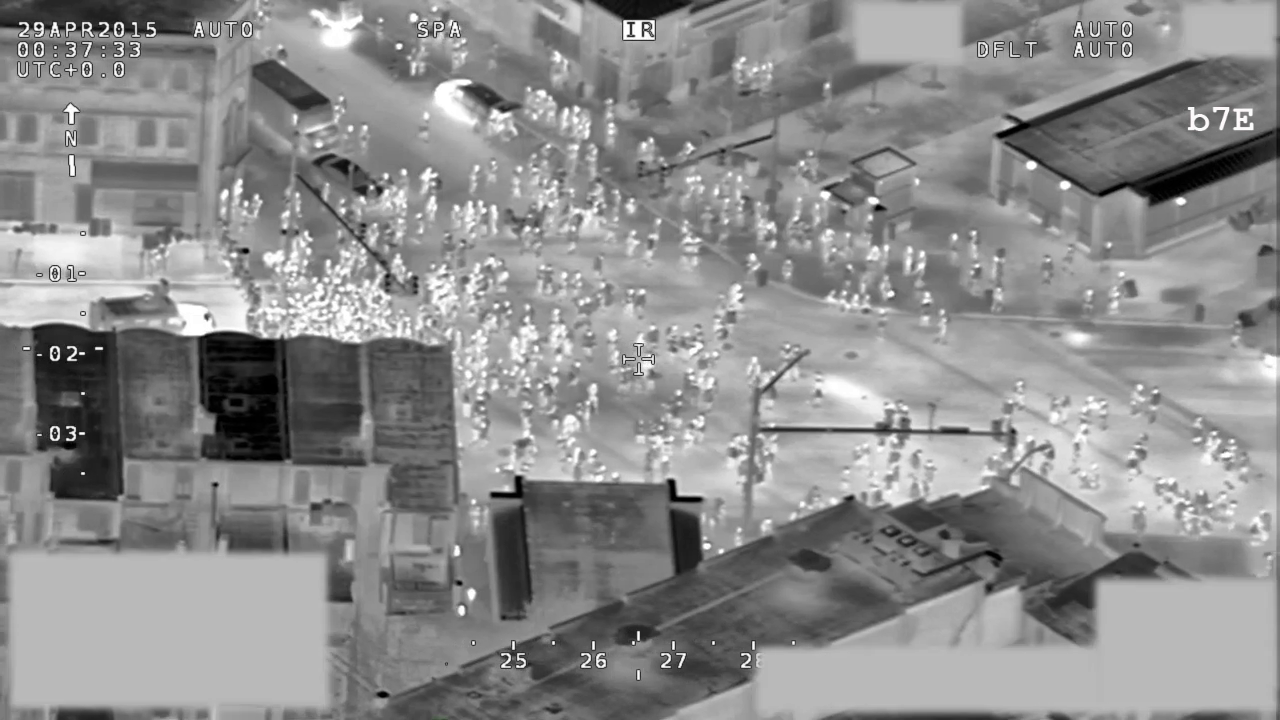vehicle: (252, 52, 349, 164), (427, 71, 528, 153), (308, 146, 393, 221)
